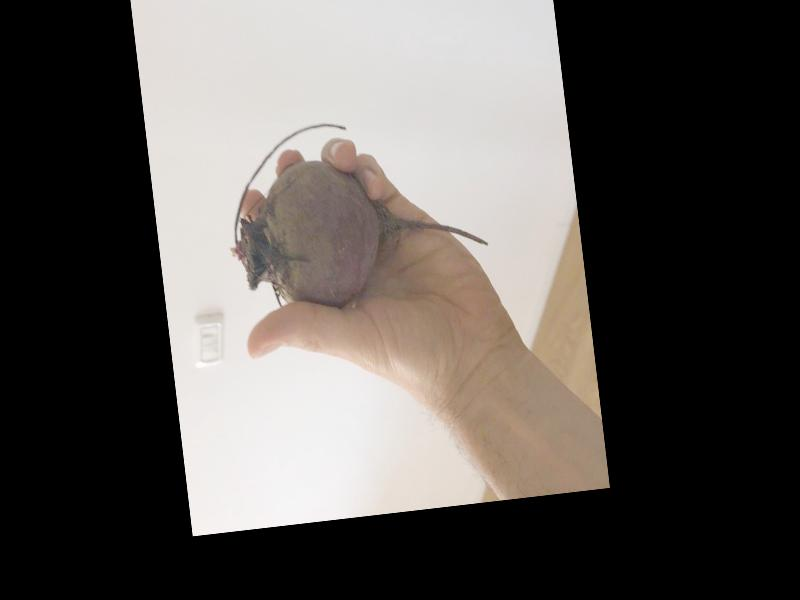Beet: (218, 104, 492, 313)
